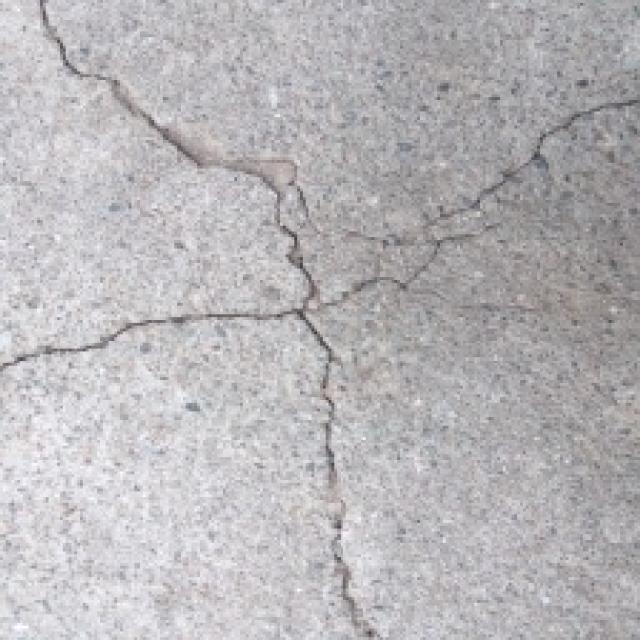crack: (34, 0, 394, 640), (0, 76, 640, 398)
